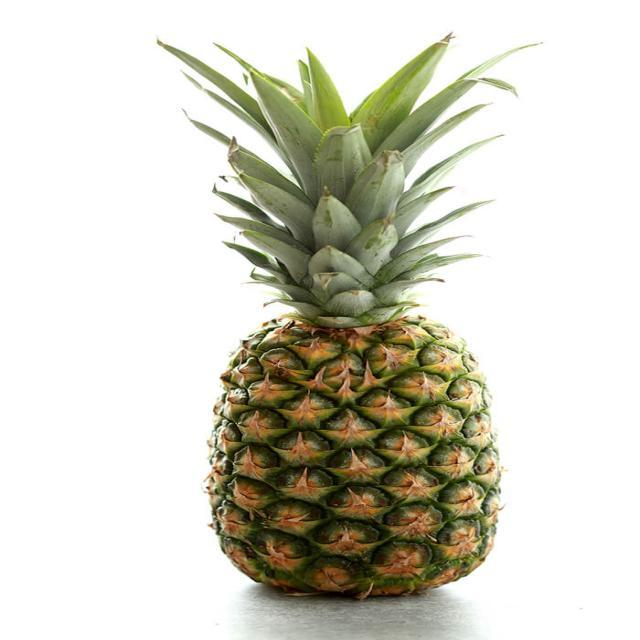PINEAPLE: (207, 38, 503, 600)
